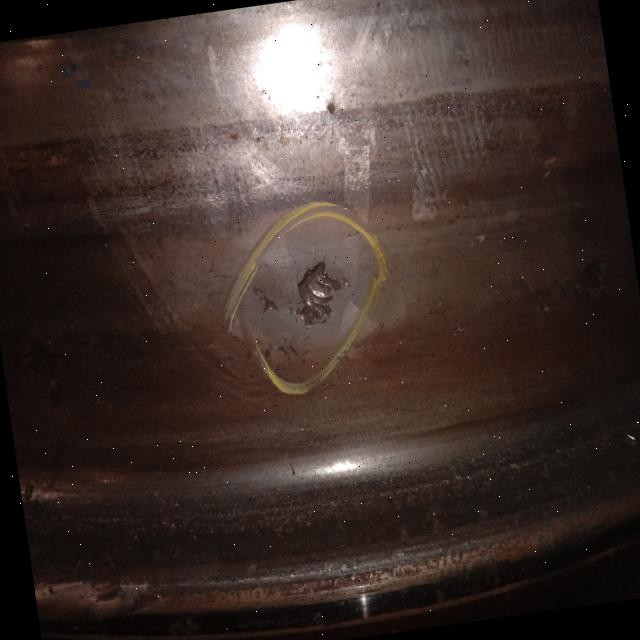Blue hole: (249, 237, 363, 363)
